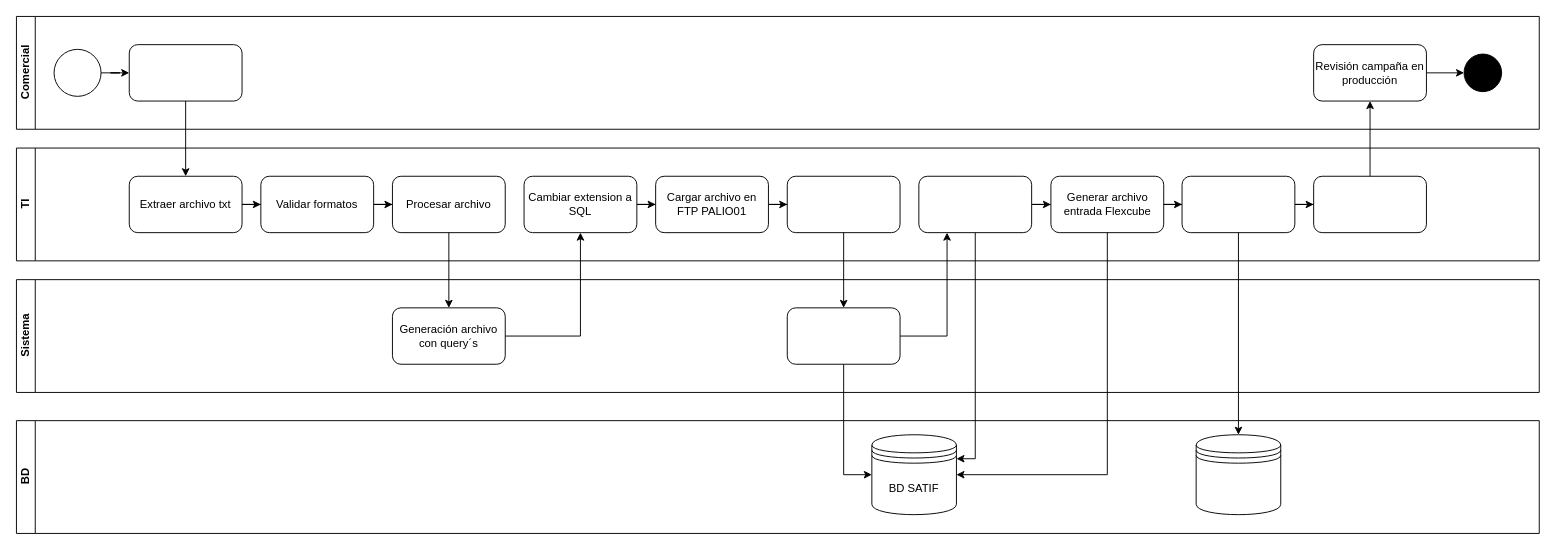
The diagram is 1556 pixels wide and 550 high, and some of its shapes have lost their labels. Each missing label, with the centre of its shape:
Carga archivos campaña: (185,72)
Cargar archivo en GALIUS: (1238,204)
Ejecutar Shell: (843,204)
Motor Tasas: (1238,474)
Procesar archivo cargado en FPT: (843,335)
Revisar ejecución JOB: (1369,204)
Revisión BD: (975,204)
